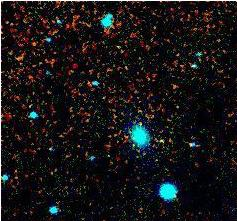star: (129, 109, 159, 139)
